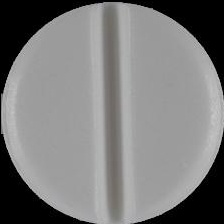63739-517: (0, 0, 224, 224)
